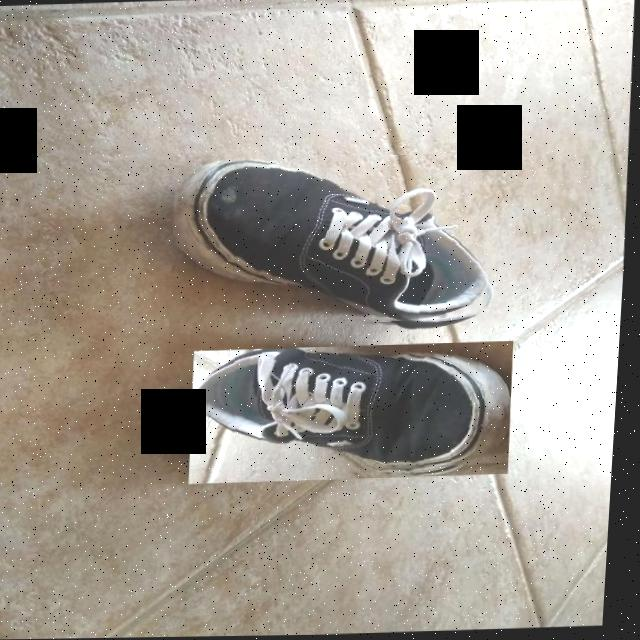shoe: (170, 153, 505, 337), (192, 342, 519, 485)
